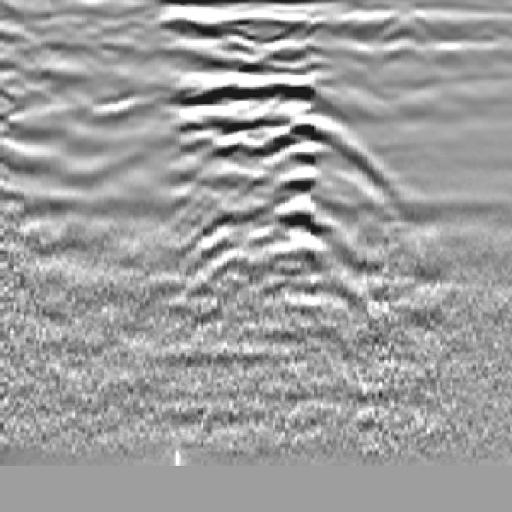metalic: (184, 85, 405, 362)
